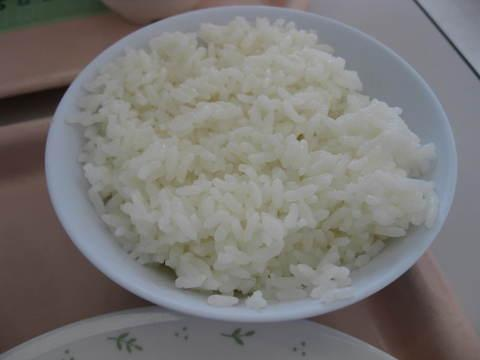rice: (70, 17, 436, 306)
